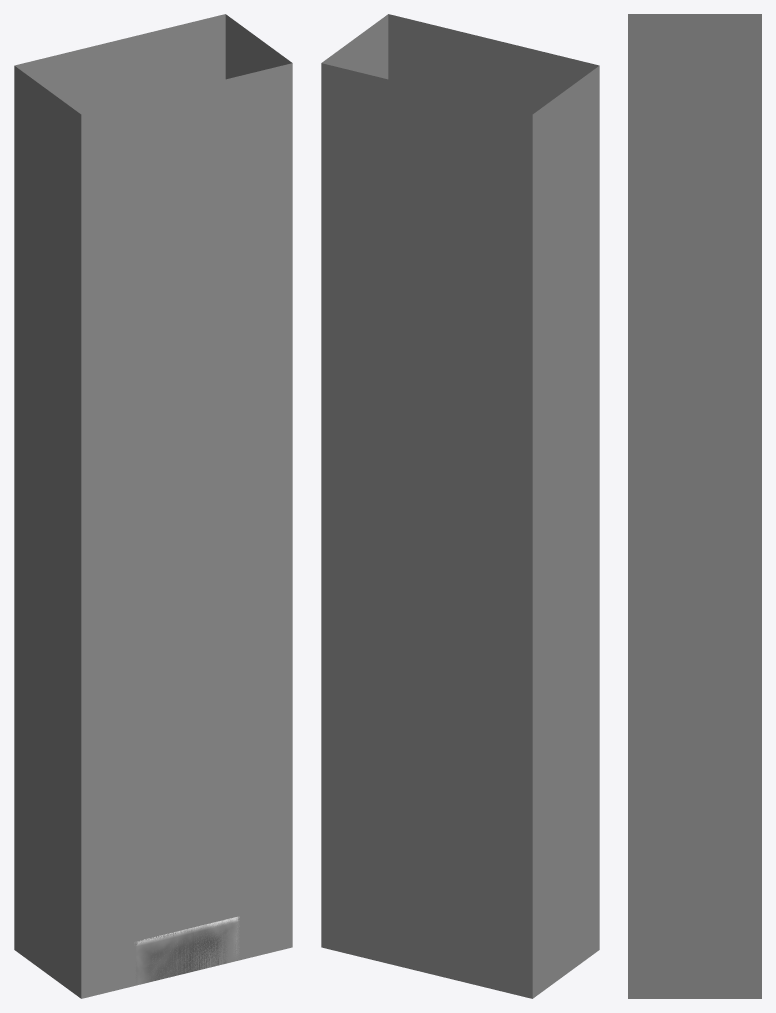
Rendered from stonemonumentbig02.fbx.
The picture shows the model from 3 angles, left to right: view 1: azimuth 30°, elevation 25°; view 2: azimuth 150°, elevation 25°; view 3: azimuth 270°, elevation 25°; orthographic projection.
Visible parts, largest first — view 1: col_w, mdl_LOD0; view 2: col_w; view 3: col_w.
Boxes of the visible parts, x1,y1,x2,y2 form: col_w: (14, 14, 292, 998); mdl_LOD0: (134, 916, 239, 985); col_w: (321, 14, 599, 998); col_w: (628, 14, 761, 998).
Size of what is drawn, in the model's own units: 200 by 800 by 110.
